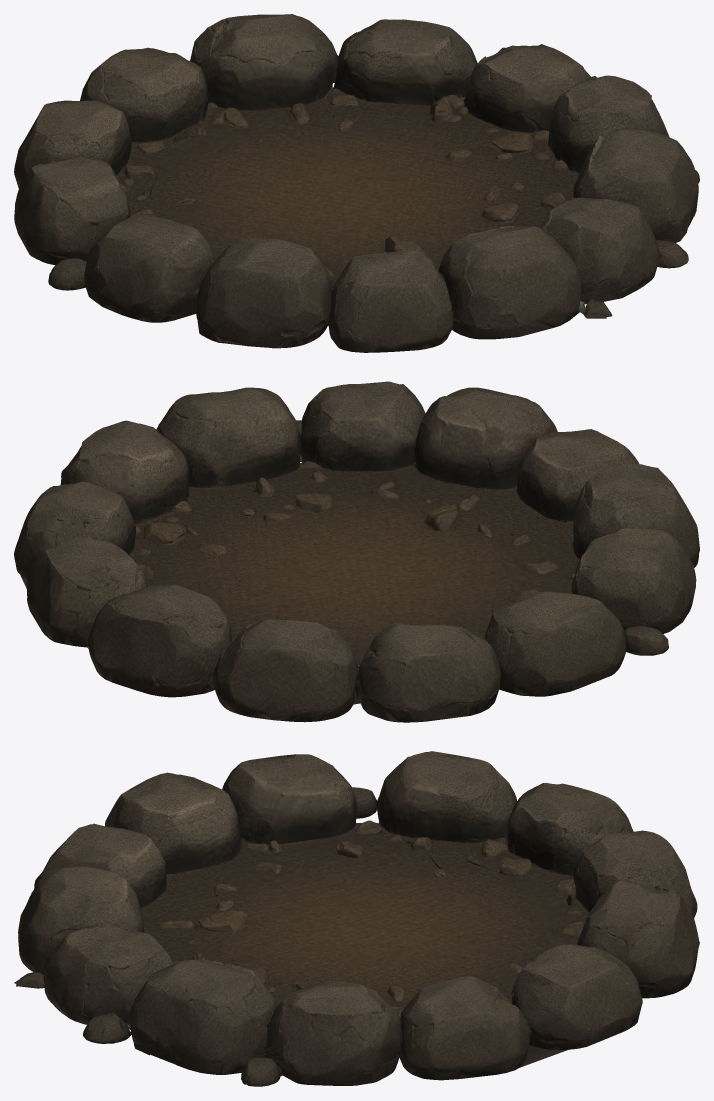
File: campfire_stone_ring.glb
3 views of the same model, one above another, from view 1: azimuth 30°, elevation 25°; view 2: azimuth 150°, elevation 25°; view 3: azimuth 270°, elevation 25° (orthographic).
Visible parts, largest first — view 1: mesh_node; view 2: mesh_node; view 3: mesh_node.
Boxes of the visible parts, <box> form: mesh_node: <box>14,14,699,352</box>; mesh_node: <box>14,381,699,722</box>; mesh_node: <box>14,751,699,1086</box>.
Bounding box in the file's own units: 2 × 0.2329 × 2.
1 material, 1 textured.
